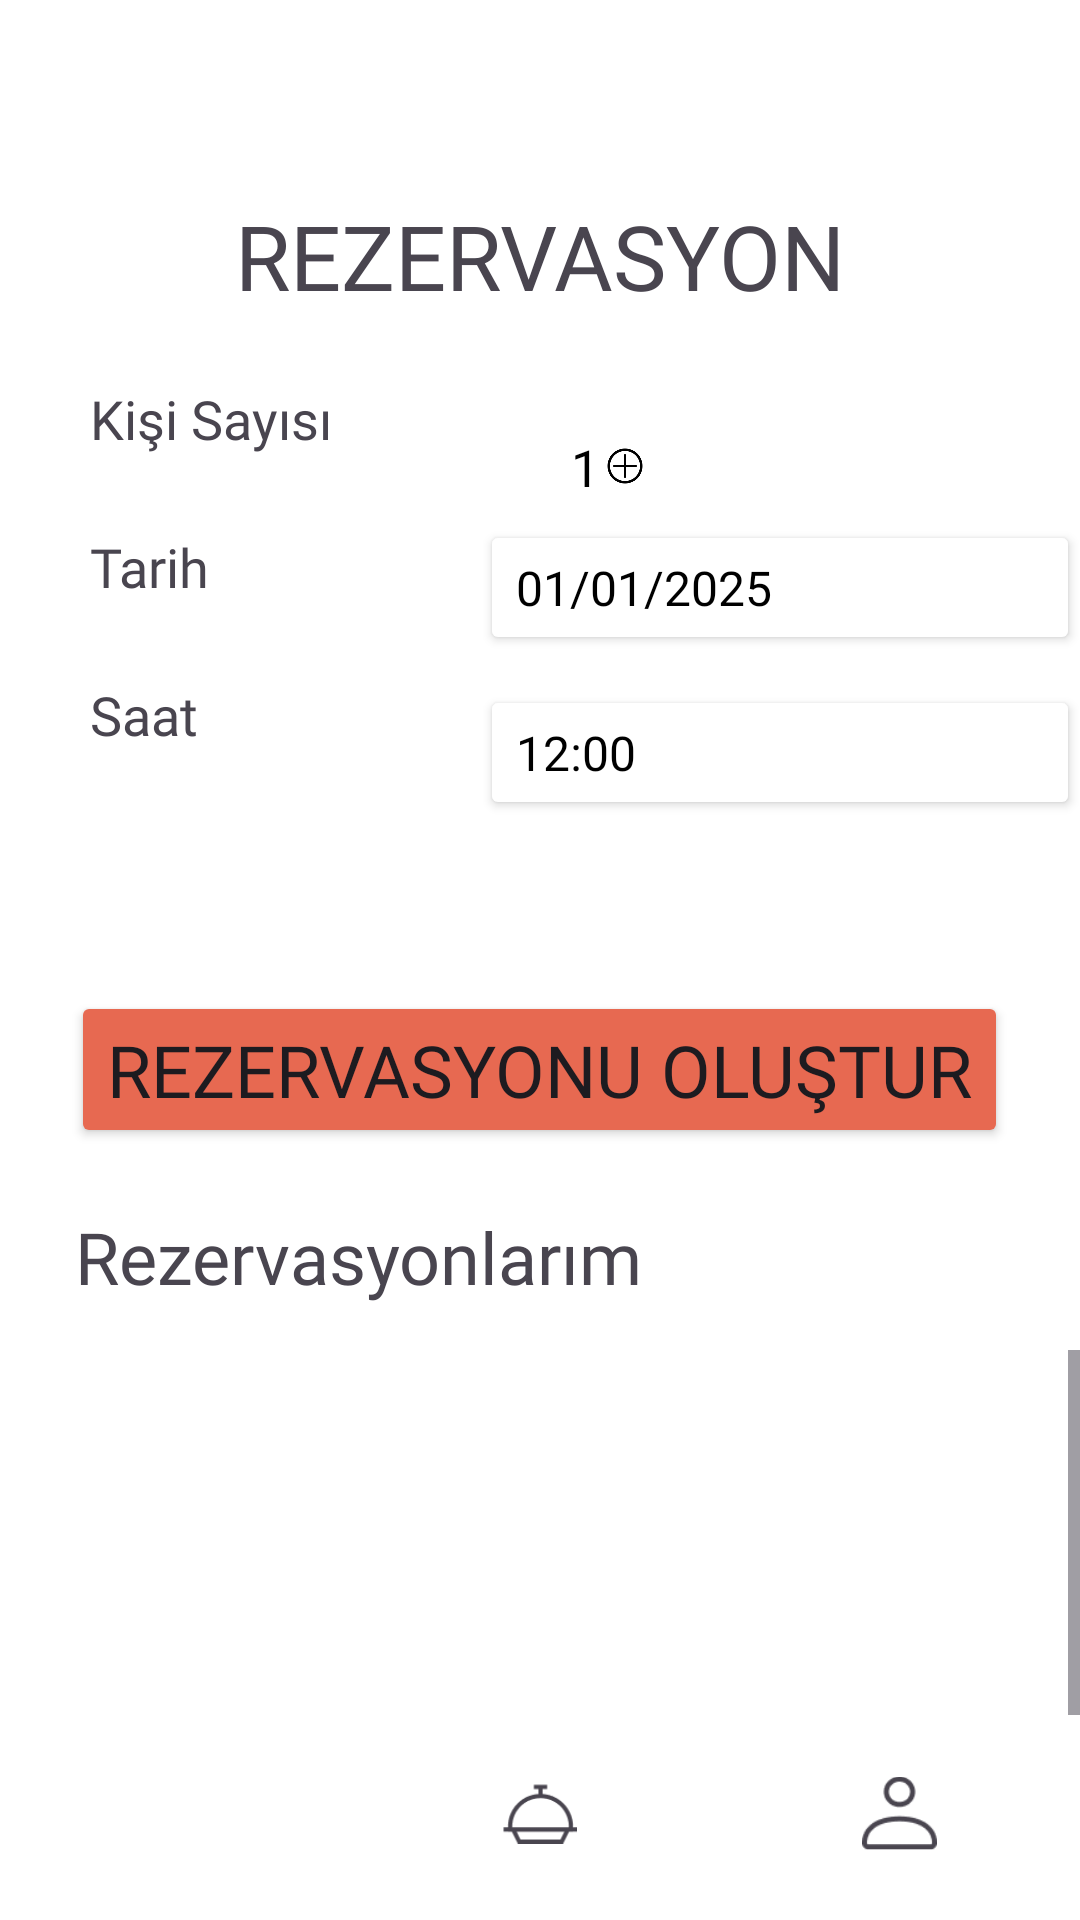

Screen size 1080px x 1920px. Icon name, then its center in pixels as [x,y]:
add: [625,466]
